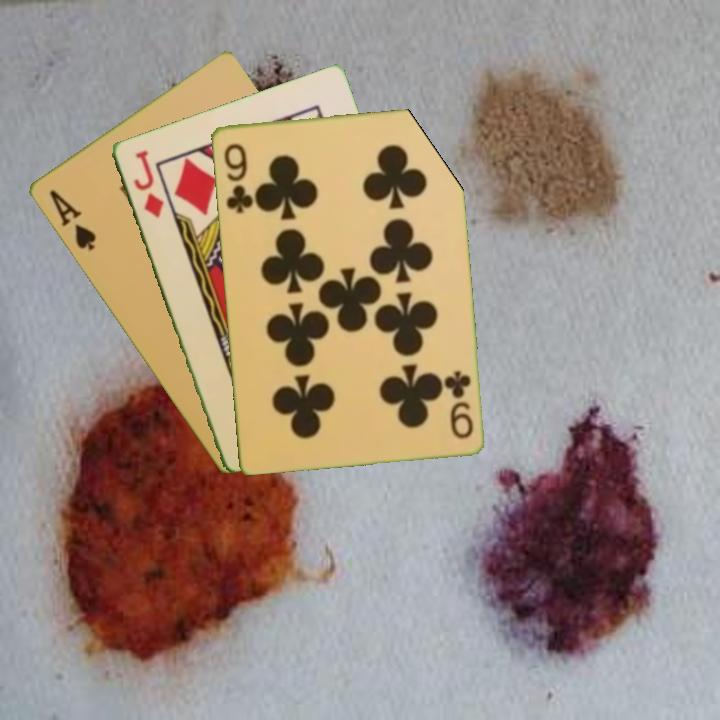9c: (220, 139, 255, 216), (441, 366, 476, 441)
As: (45, 186, 99, 254)
Jd: (129, 145, 167, 220)
